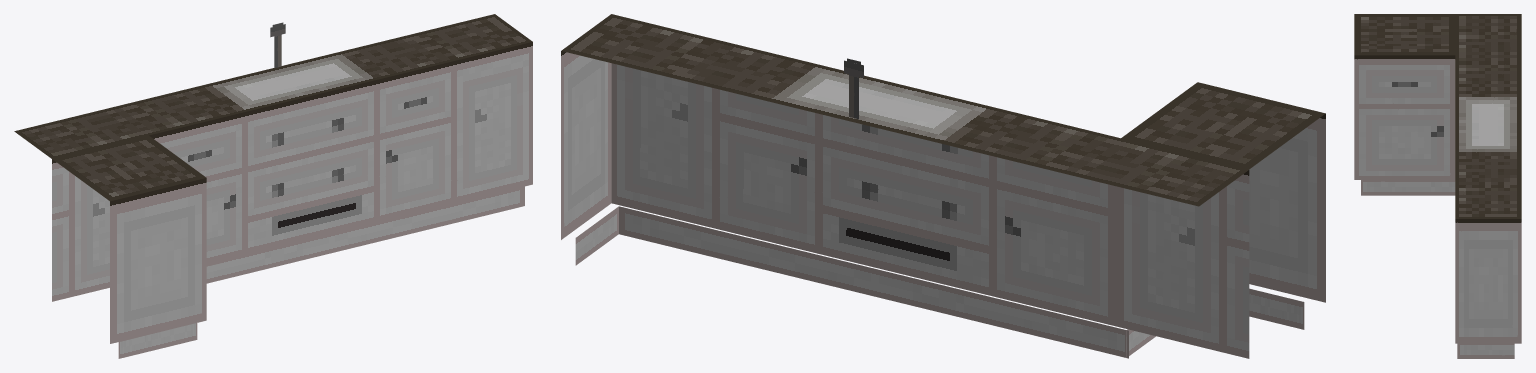
Rendered from BGN_KITCHEN CABINET.fbx.
3 renders of one model, left to right at view 1: azimuth 30°, elevation 25°; view 2: azimuth 150°, elevation 25°; view 3: azimuth 270°, elevation 25°, orthographic. The views are drawn at different scales.
Parts seen in each view (by area): view 1: BGN_KITCHEN_CABINET; view 2: BGN_KITCHEN_CABINET; view 3: BGN_KITCHEN_CABINET.
Part boxes in pixels (x1=…): BGN_KITCHEN_CABINET: x1=14, y1=14, x2=532, y2=358; BGN_KITCHEN_CABINET: x1=561, y1=14, x2=1325, y2=358; BGN_KITCHEN_CABINET: x1=1354, y1=14, x2=1521, y2=358.
Bounding box in the file's own units: 334 × 139 × 115.
1 material, 1 textured.
